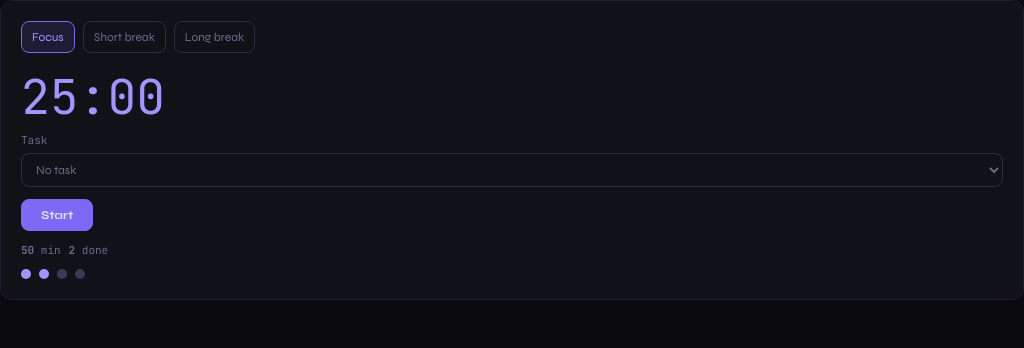
Scenario: PomodoroComponent › renders tasks, updates selectedTaskId, and shows selected task while running
Select "Ship timer" in the dropdown with test id "task-select" showing "Task" at (512, 170), box [21,153,1003,187]
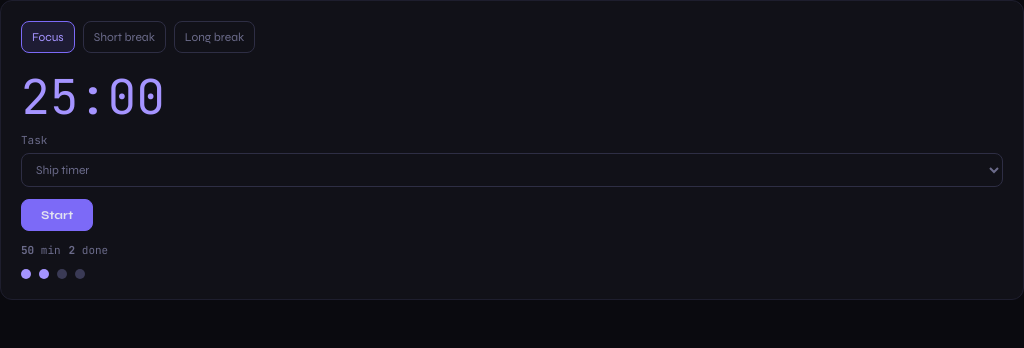
Click the button with test id "start-btn".
click(57, 215)  # box [21,199,93,231]
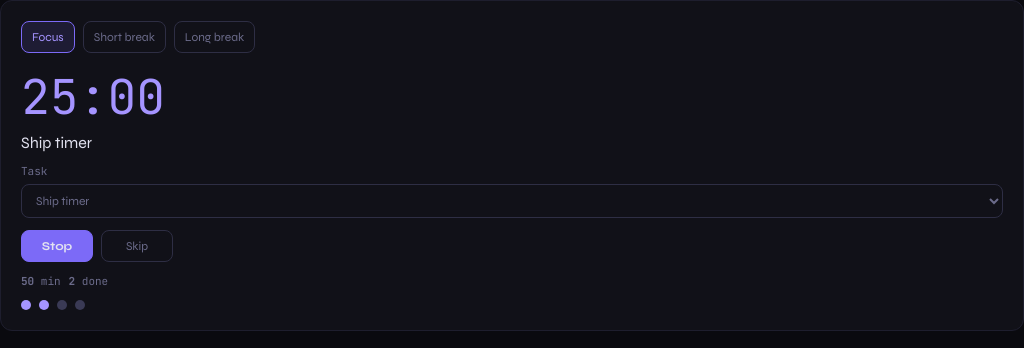
Expected: the text with test id "active-task" reads "Ship timer", [21,133,92,152]
